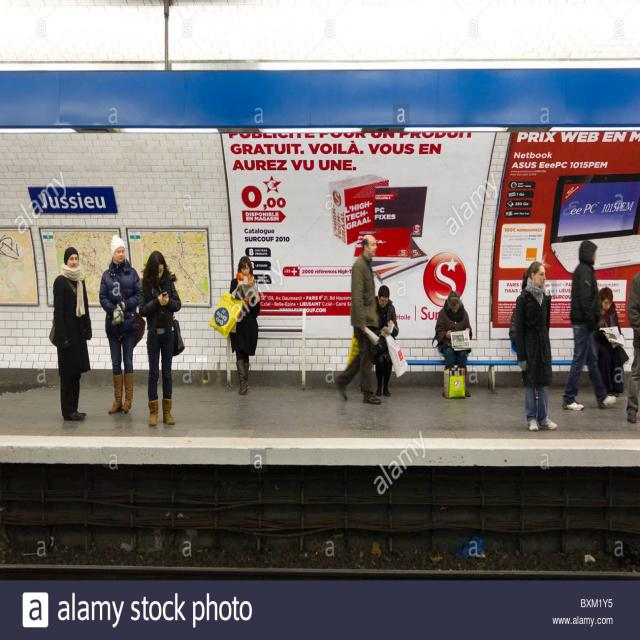body: (561, 239, 617, 412), (98, 233, 146, 414), (508, 260, 558, 432), (332, 233, 382, 405), (137, 248, 185, 426), (48, 244, 93, 421), (227, 255, 261, 396), (434, 290, 473, 398), (598, 286, 630, 398), (373, 284, 400, 398), (625, 270, 640, 424)
